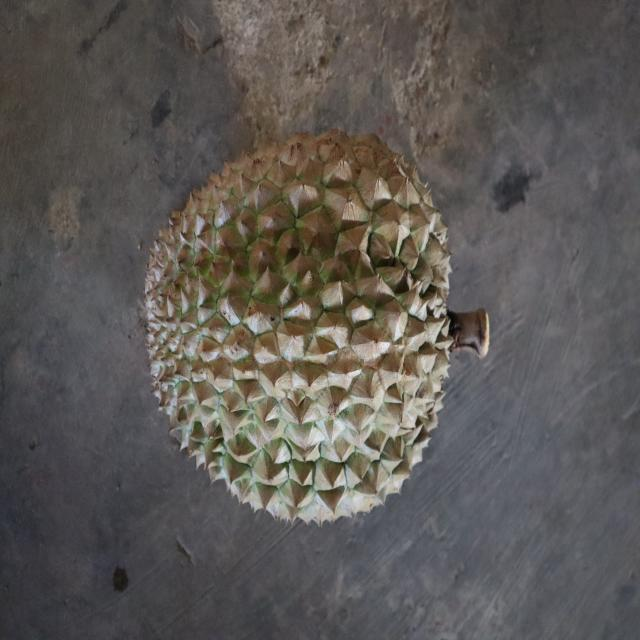mature: (140, 127, 452, 527)
